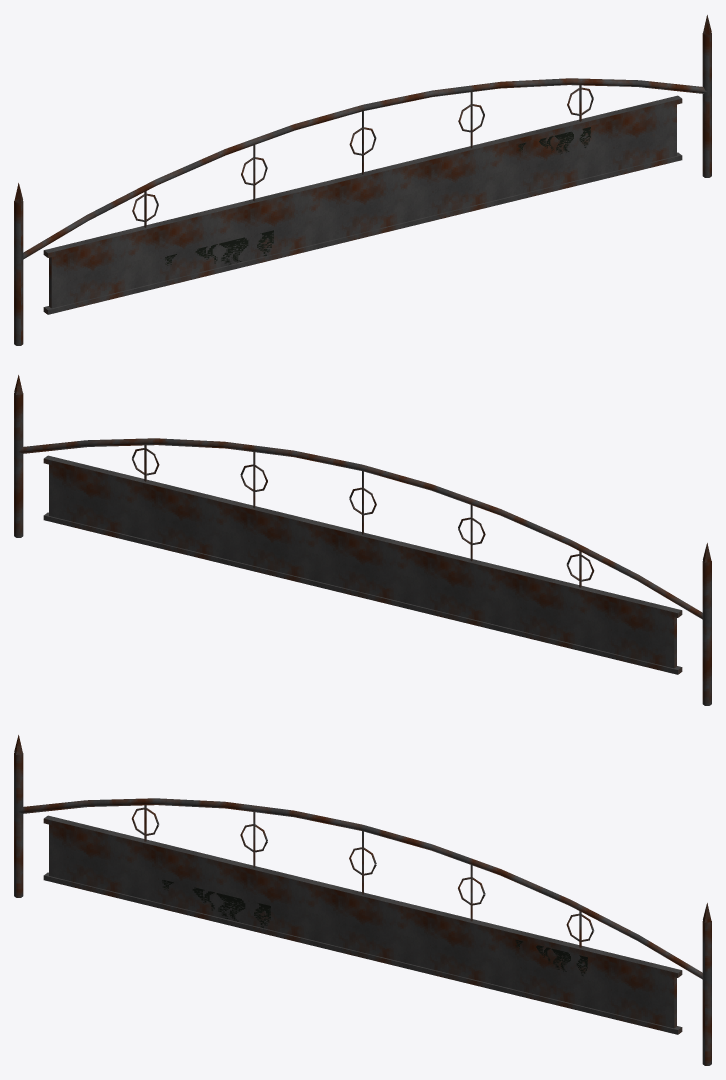
File: park_arch.glb
3 views of the same model, one above another, from view 1: azimuth 30°, elevation 25°; view 2: azimuth 150°, elevation 25°; view 3: azimuth 330°, elevation 25° (orthographic).
Parts seen in each view (by area): view 1: iron; view 2: iron; view 3: iron.
Part boxes in pixels (x1,y1,x2,y2): iron: (14,15,711,345); iron: (14,375,711,705); iron: (14,735,711,1065).
Size of the model in its own units: 7.7 by 1.71 by 0.1.
Materials: 2 (2 with a texture image).
